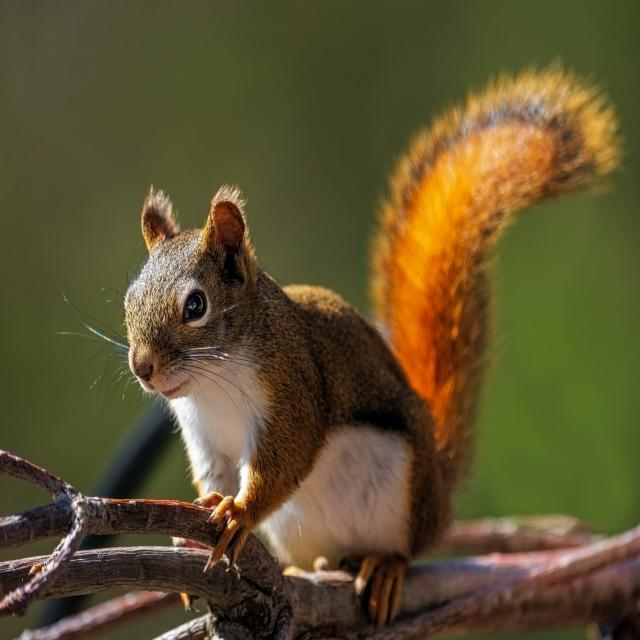Squirrel: (124, 80, 608, 568)
